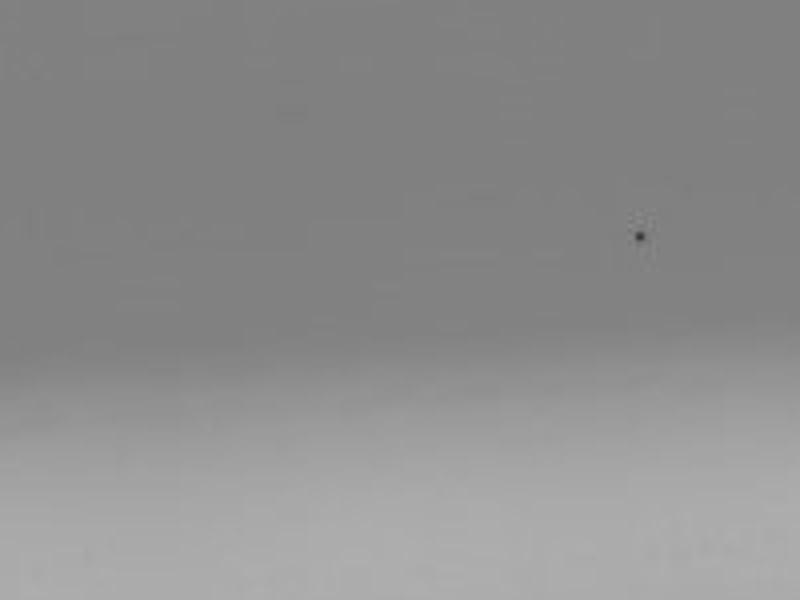defect: (630, 230, 648, 245)
